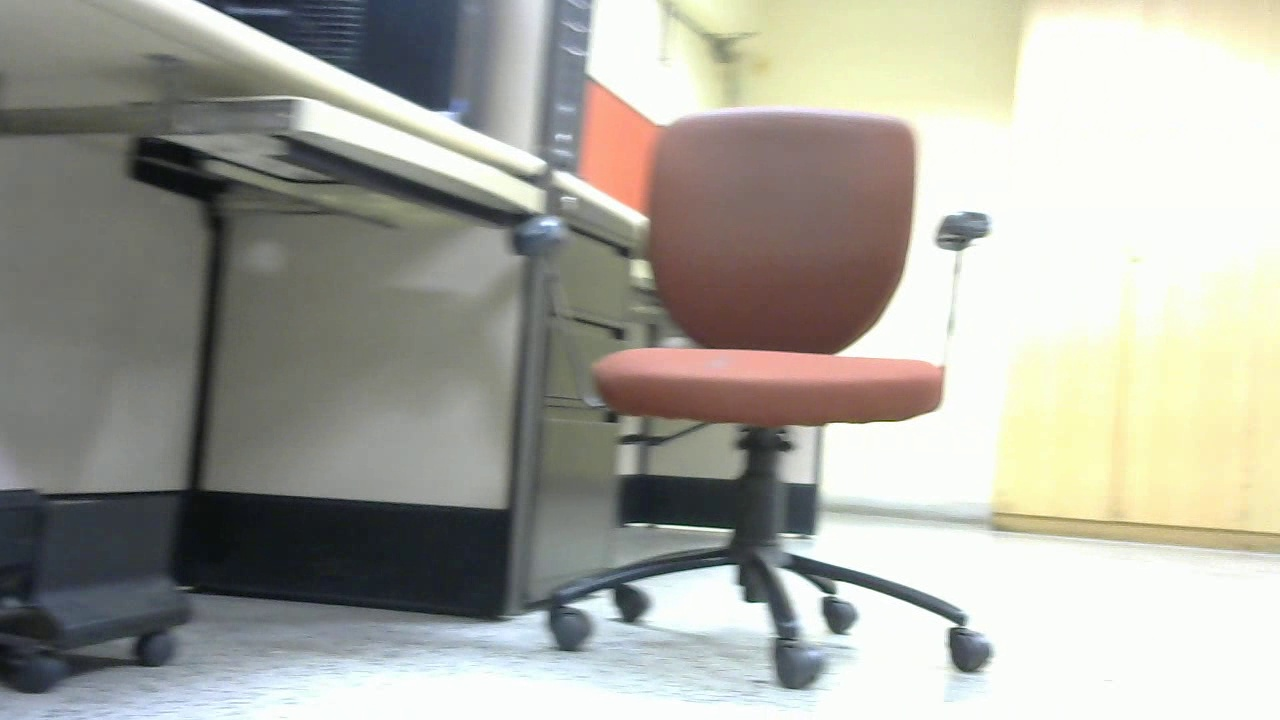chair: (362, 212, 610, 534), (1, 162, 184, 496)
